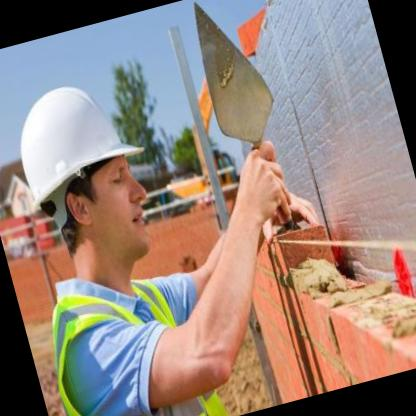helmet: (1, 47, 182, 309)
